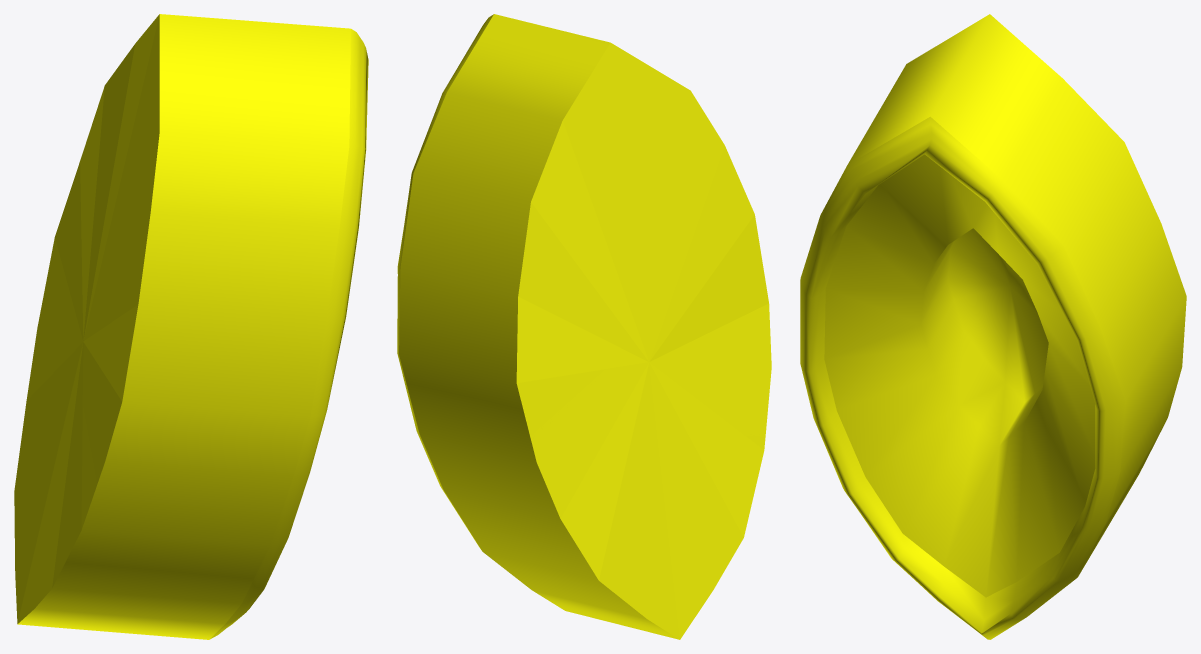
The model's file is TR5_8shapes_Marquise_Classic_Metal.001 3.glb.
3 views of the same model, side by side, from view 1: azimuth 30°, elevation 25°; view 2: azimuth 150°, elevation 25°; view 3: azimuth 270°, elevation 25° (orthographic). The views are drawn at different scales.
Visible parts, largest first — view 1: TR5_8shapes_Marquise_Classic_Metal.001; view 2: TR5_8shapes_Marquise_Classic_Metal.001; view 3: TR5_8shapes_Marquise_Classic_Metal.001.
Boxes of the visible parts, bbox=[...] form: TR5_8shapes_Marquise_Classic_Metal.001: bbox=[14, 14, 368, 639]; TR5_8shapes_Marquise_Classic_Metal.001: bbox=[397, 14, 771, 639]; TR5_8shapes_Marquise_Classic_Metal.001: bbox=[800, 14, 1186, 639].
Size of the model in its own units: 0.3573 by 0.6888 by 0.4002.
